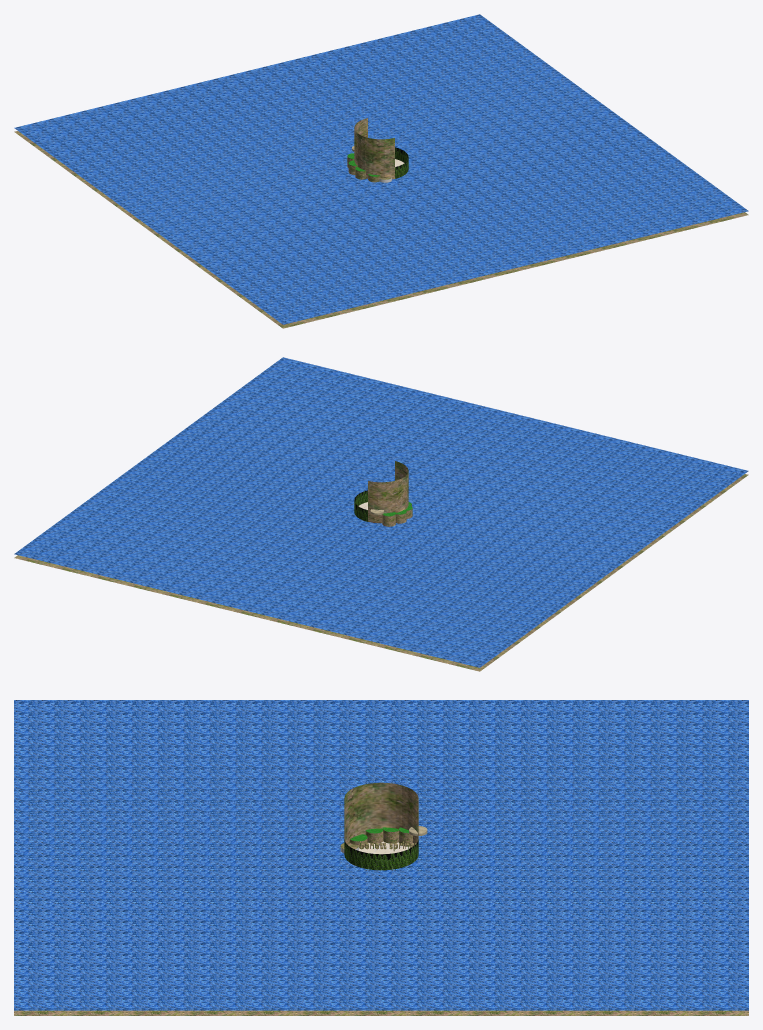
File: cliffside.glb
3 views of the same model, one above another, from view 1: azimuth 30°, elevation 25°; view 2: azimuth 150°, elevation 25°; view 3: azimuth 270°, elevation 25° (orthographic). The views are drawn at different scales.
Visible parts, largest first — view 1: zzz.001, Plane, Cylinder; view 2: zzz.001, Plane, Cylinder; view 3: zzz.001, Plane, Cylinder, Cylinder.001.
Boxes of the visible parts, x1,y1,x2,y2 form: zzz.001: (14, 14, 748, 324); Plane: (14, 131, 748, 328); Cylinder: (354, 118, 394, 179); zzz.001: (14, 357, 748, 667); Plane: (14, 474, 748, 671); Cylinder: (368, 461, 408, 523); zzz.001: (14, 700, 748, 1010); Plane: (14, 1010, 748, 1015); Cylinder: (344, 782, 418, 845); Cylinder.001: (344, 839, 418, 870).
Bounding box in the file's own units: 1188 × 114 × 1188.
8 materials, 8 textured.
